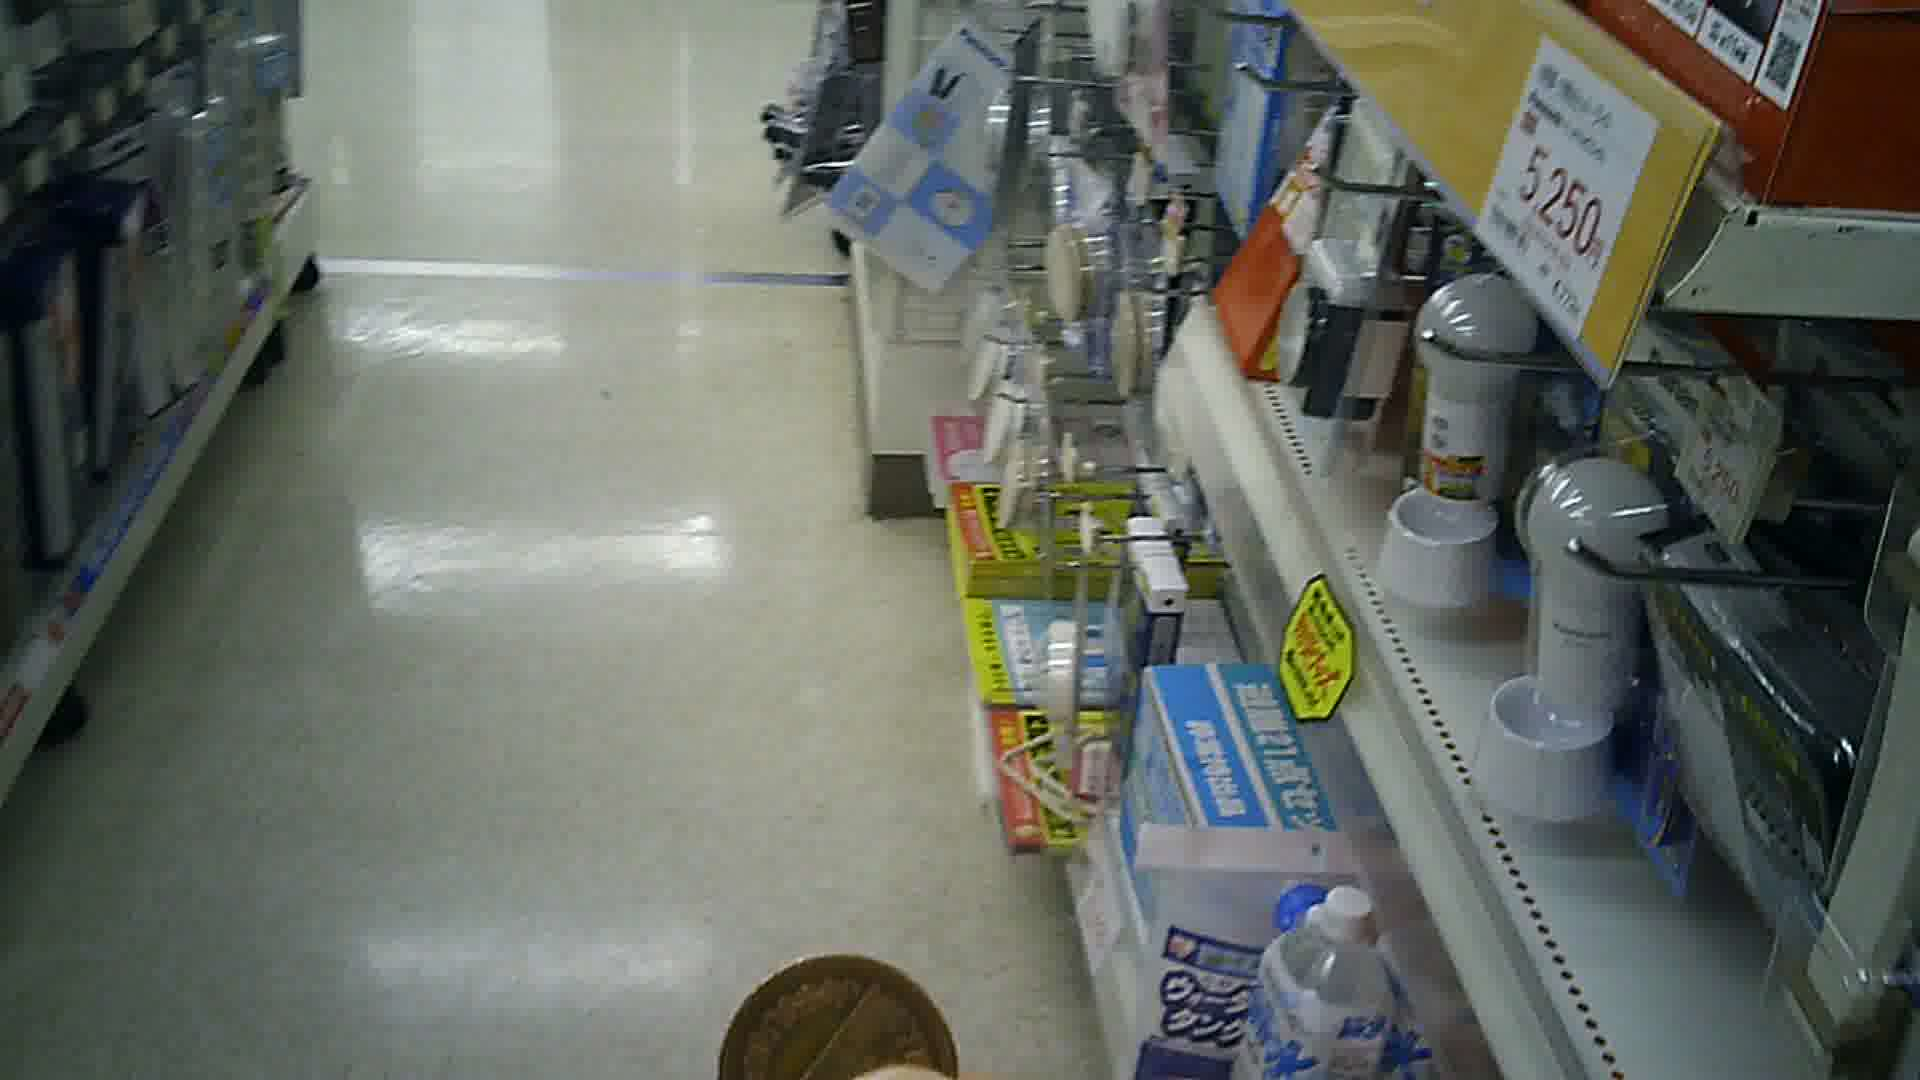10 Yen: (705, 943, 942, 1079)
